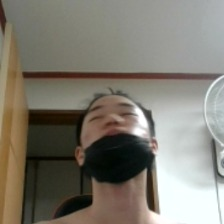OffMask: (70, 113, 166, 186)
